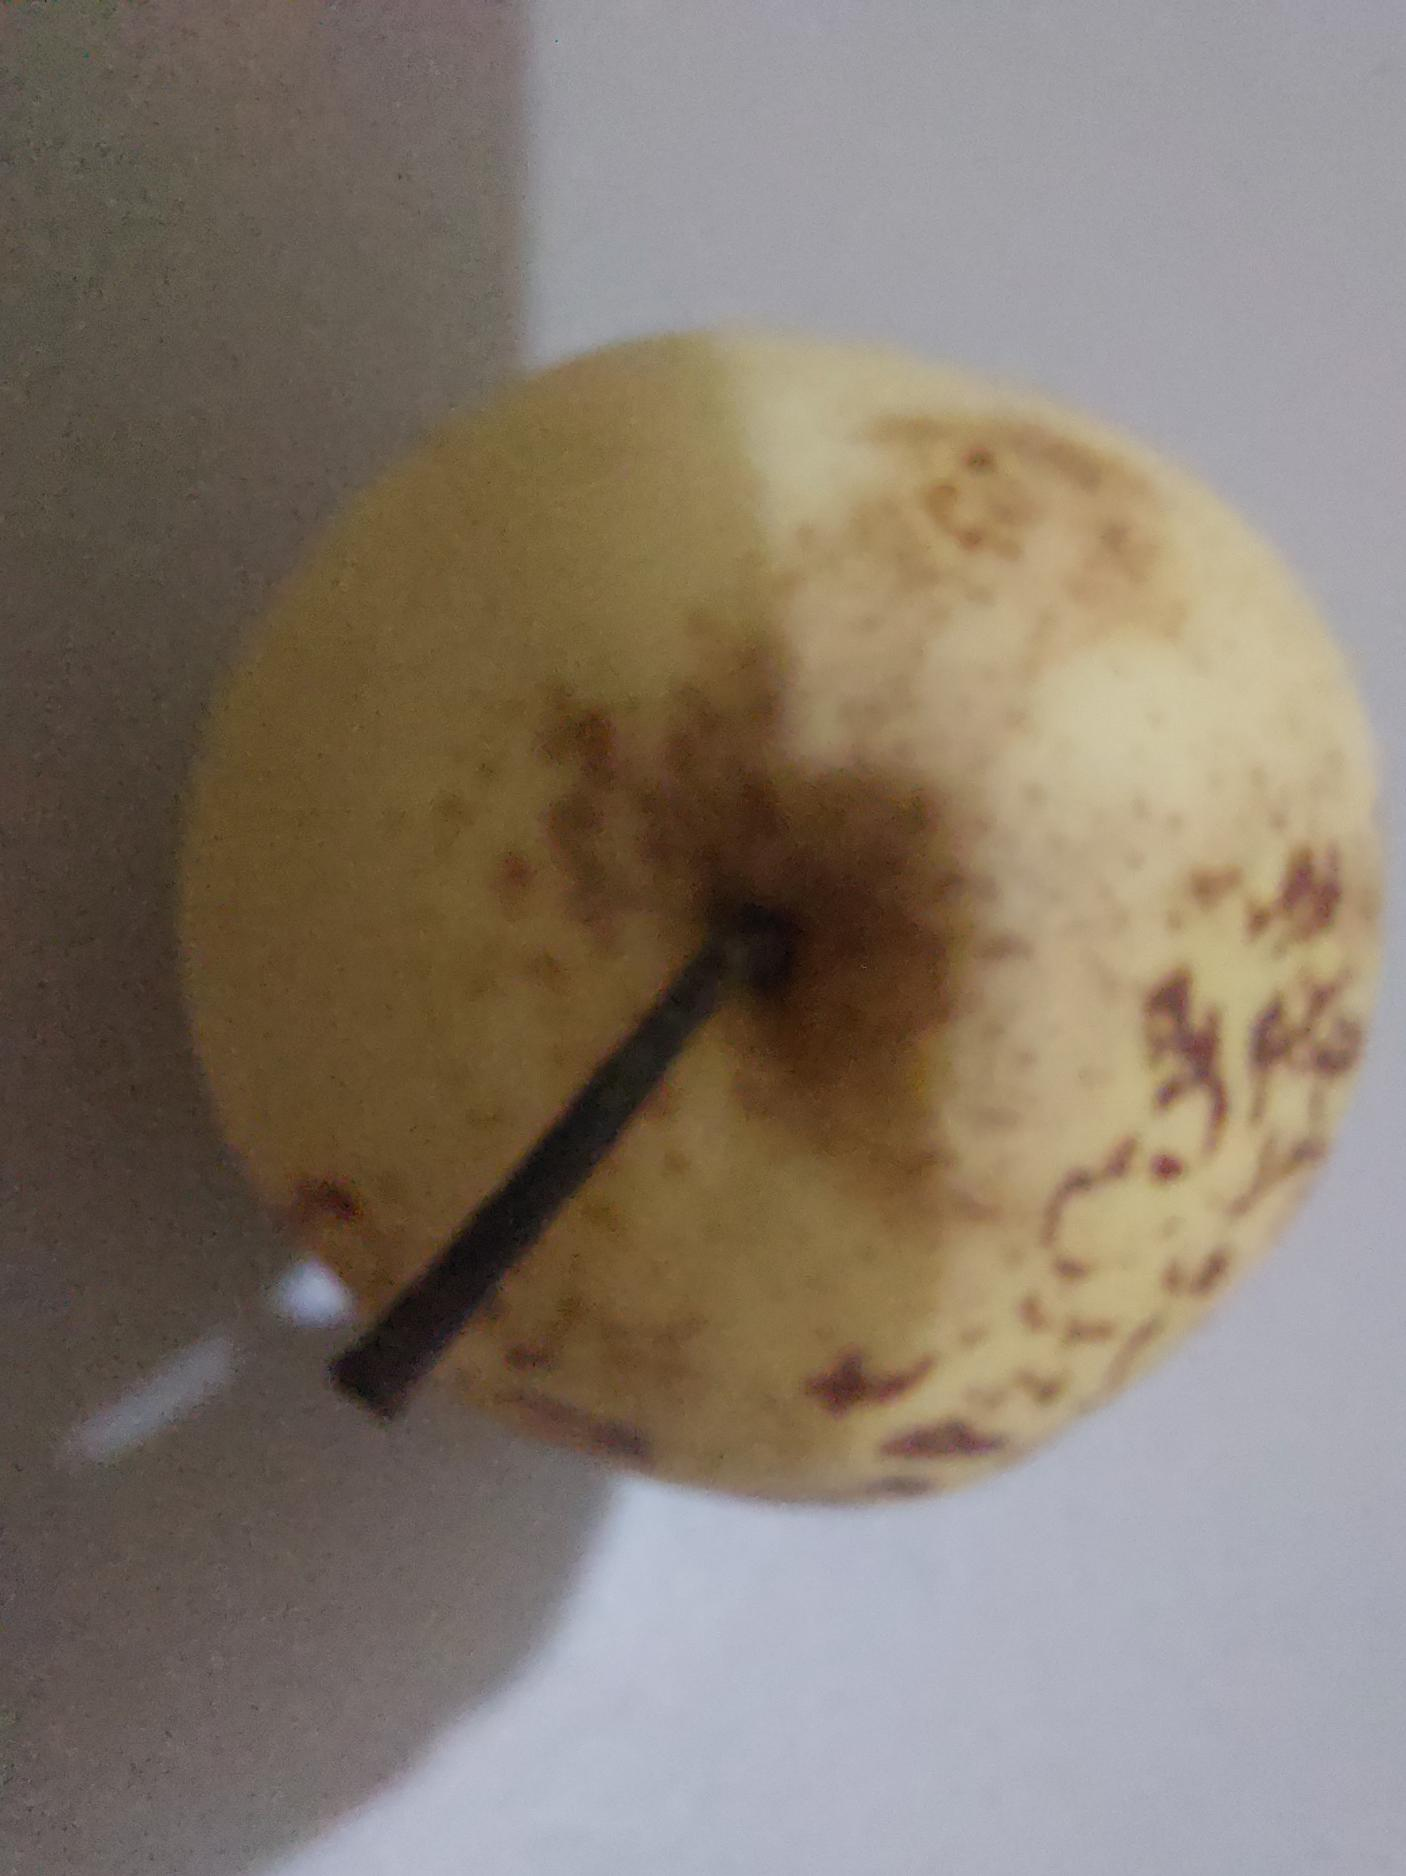Bad Pear: (160, 350, 1354, 1452)
